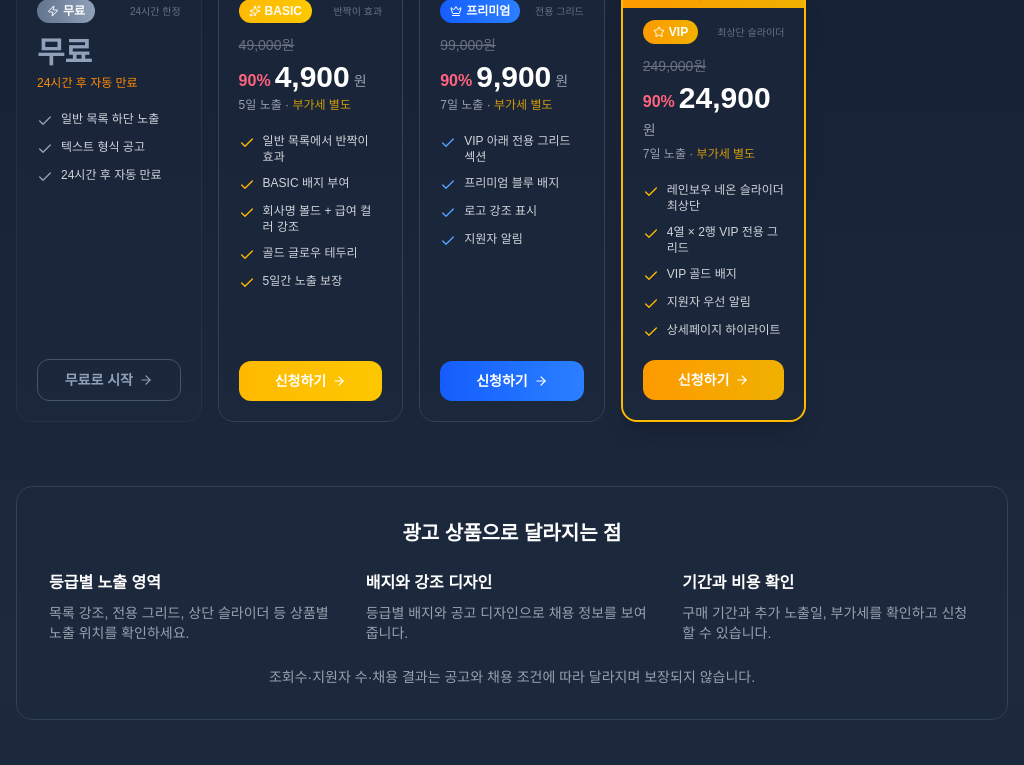
Test: real advertisement target selection › asks anonymous visitors to log in without fake jobs
The width and height of the screenshot is (1024, 765).
(page scrolled)
What coordinates should you click on to do the following:
click the button "신청하기" below "5일간 노출 보장"
I would click on:
 (310, 381)
Its box is [239, 361, 382, 401].
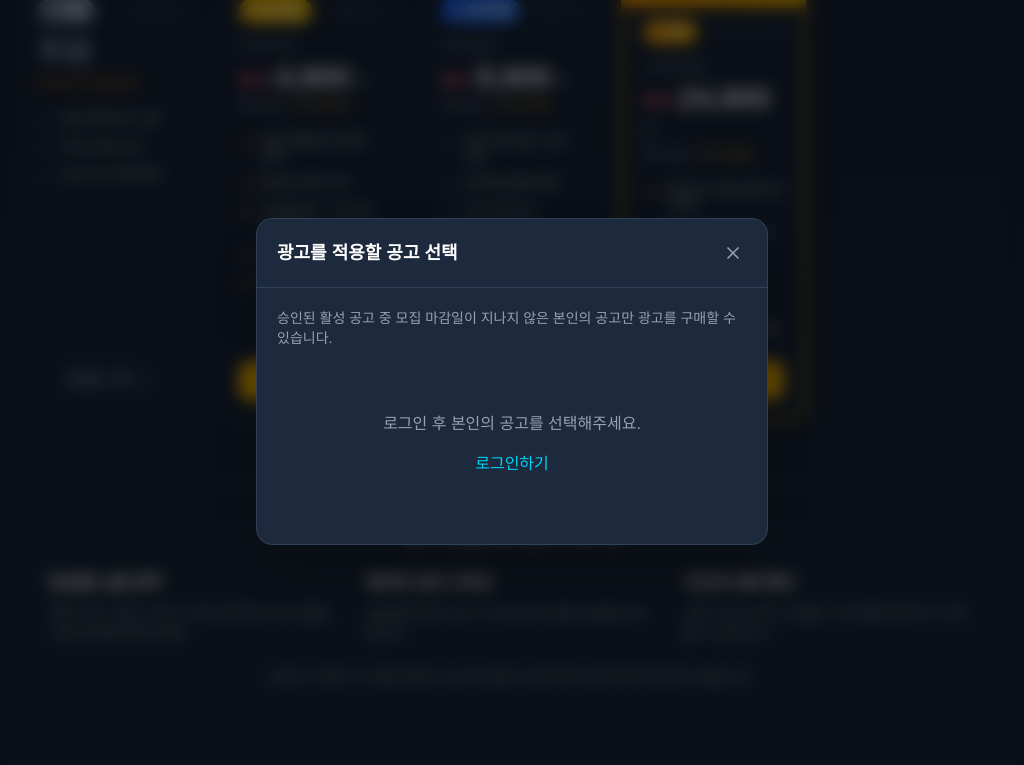
Now the text "로그인 후 본인의 공고를 선택해주세요." is shown, box [383, 414, 641, 432]
